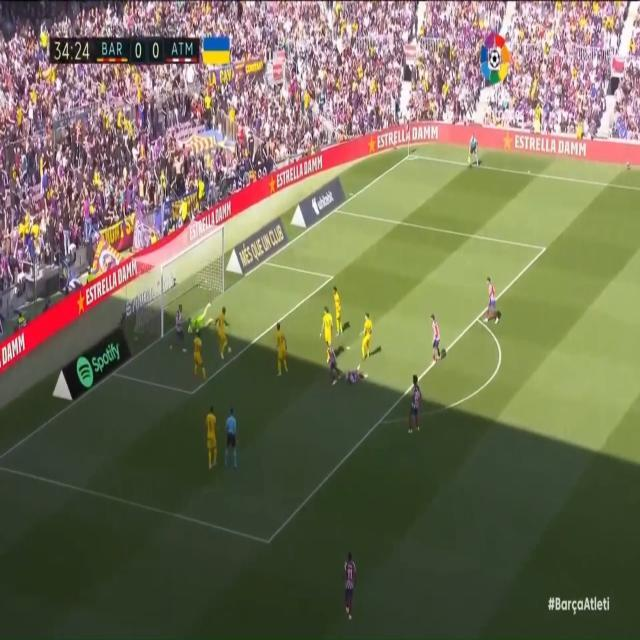ball: (226, 343, 234, 357)
goalkeeper: (190, 289, 216, 339)
player: (335, 539, 360, 628), (204, 399, 222, 474), (404, 365, 421, 443), (359, 300, 381, 355), (272, 319, 291, 379), (331, 282, 349, 339), (321, 300, 338, 360), (428, 308, 444, 370), (343, 359, 374, 391), (326, 339, 342, 399), (486, 266, 500, 331), (191, 329, 207, 385), (216, 304, 231, 363), (173, 301, 186, 361)
referee: (225, 409, 246, 467), (465, 126, 482, 170)
